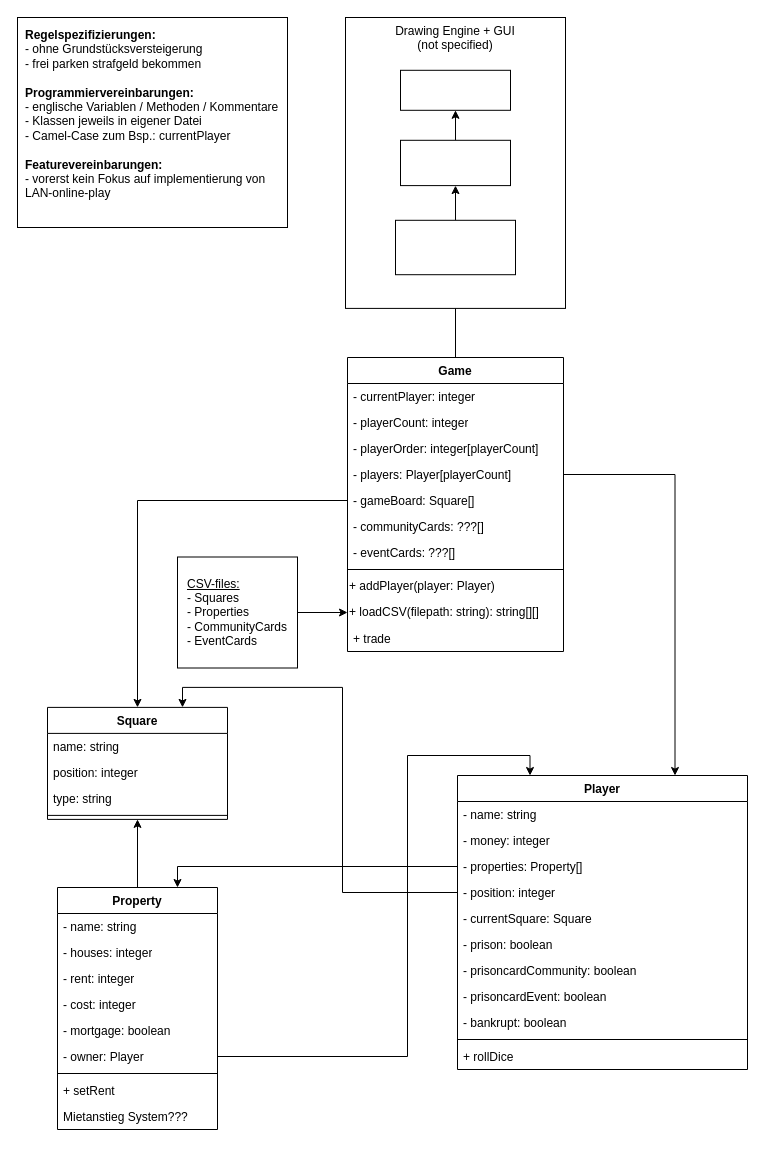
This 765x1150 diagram has some shape labels left out. The centre of each missing label's shape, as x and y in pixels:
"Draw Method" belongs at (x=455, y=247).
"GUI (pygame)" belongs at (x=455, y=162).
"Spielfeld" belongs at (x=455, y=89).
